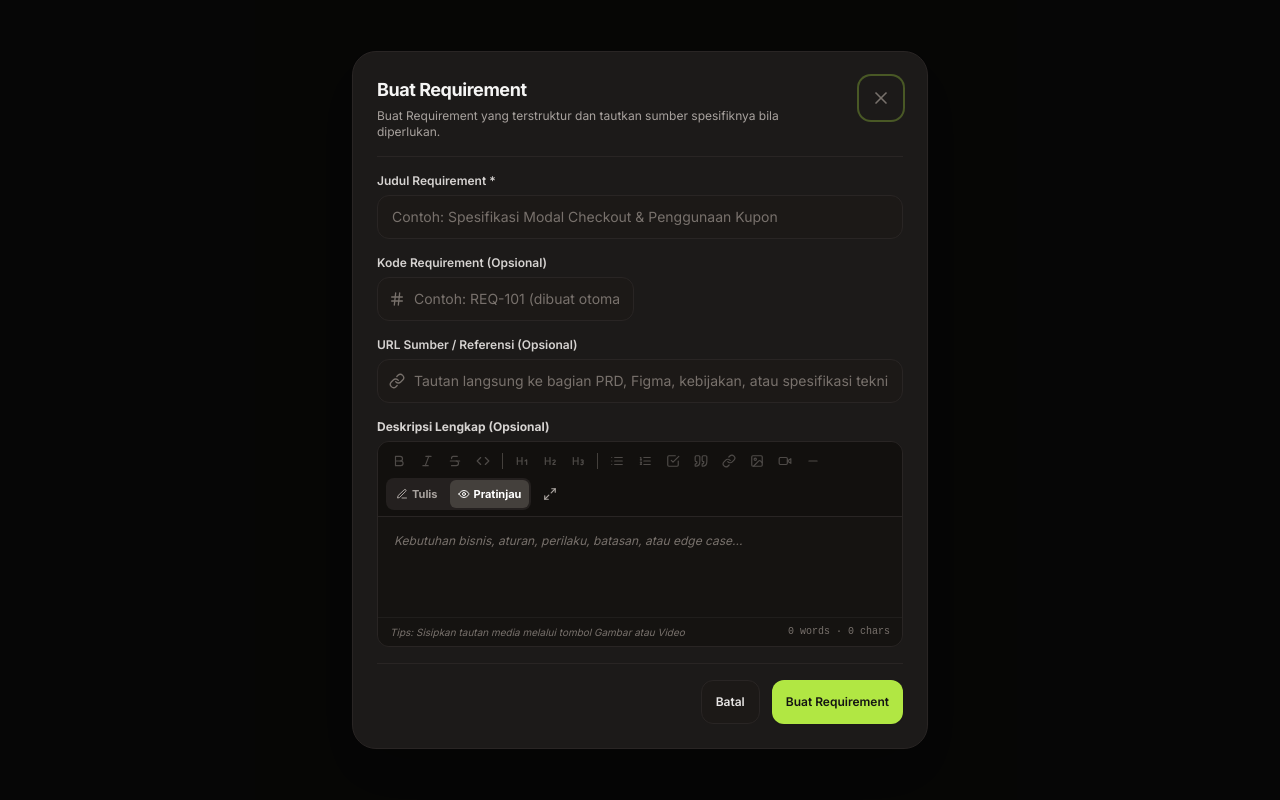
Scenario: RequirementFormModal Molecule › validates URL format and shows error for invalid URL string
This screenshot has width=1280, height=800.
Type "Spec with bad URL" into the field labelled "Judul Requirement *".
click(640, 217); type("Spec with bad URL")  # box [377,195,903,239]
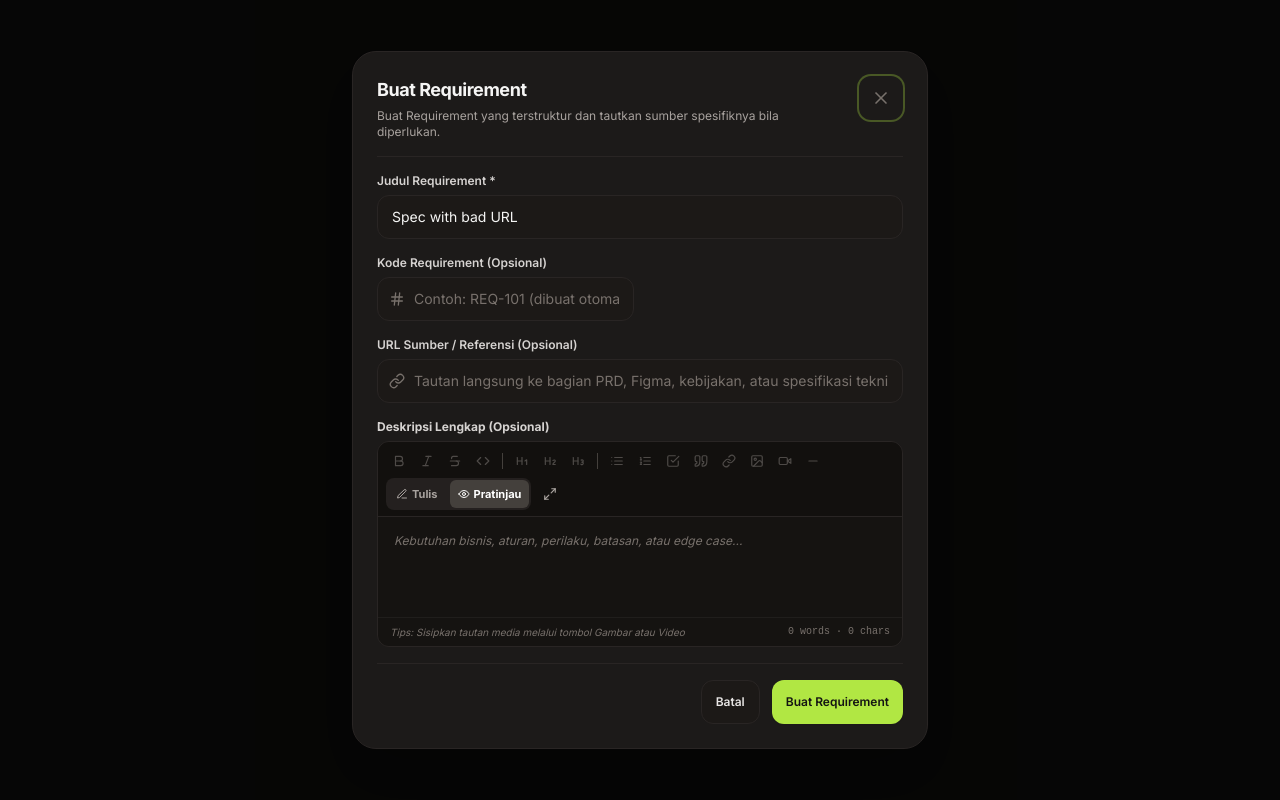
Replace the text in the field labelled "URL Sumber / Referensi (Opsional)" with "not_a_valid_url" at (640, 381), box [377,359,903,403]
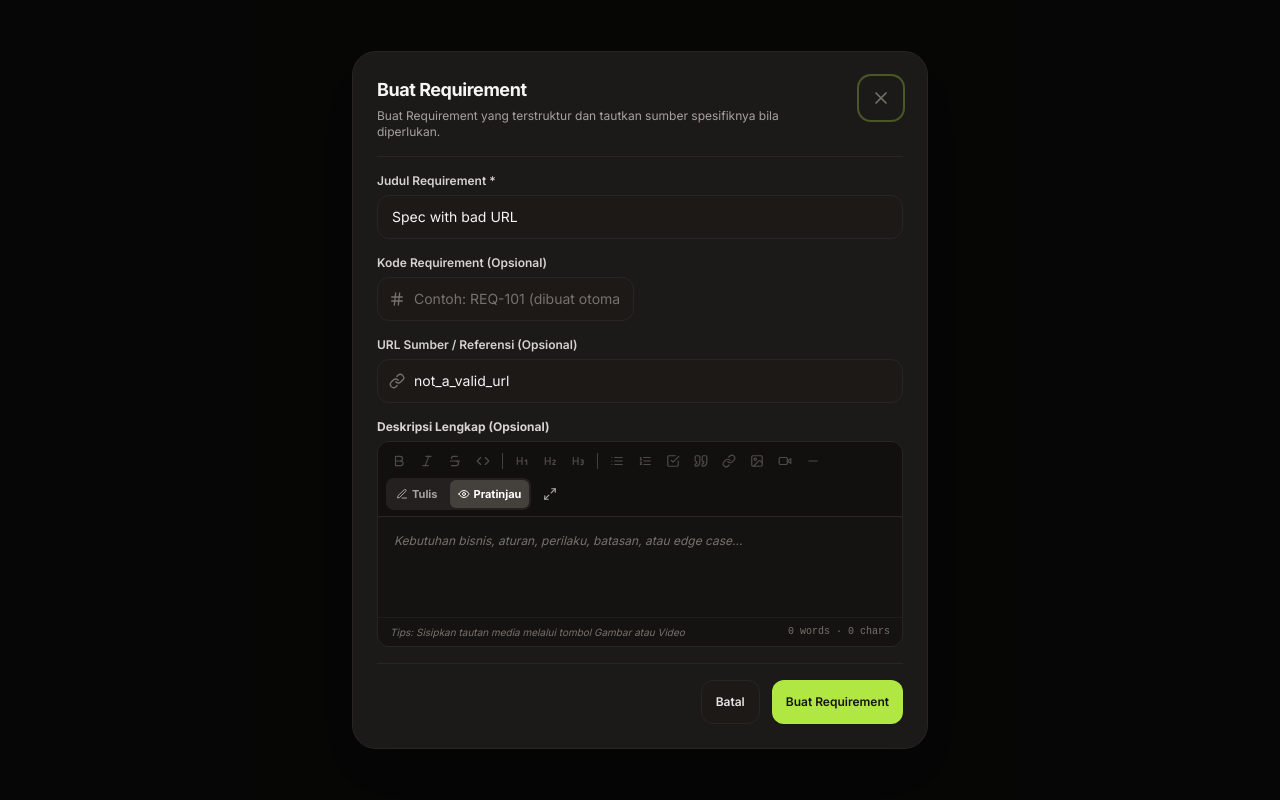
Click the button "Buat Requirement".
click(837, 702)  # box [772,680,903,724]
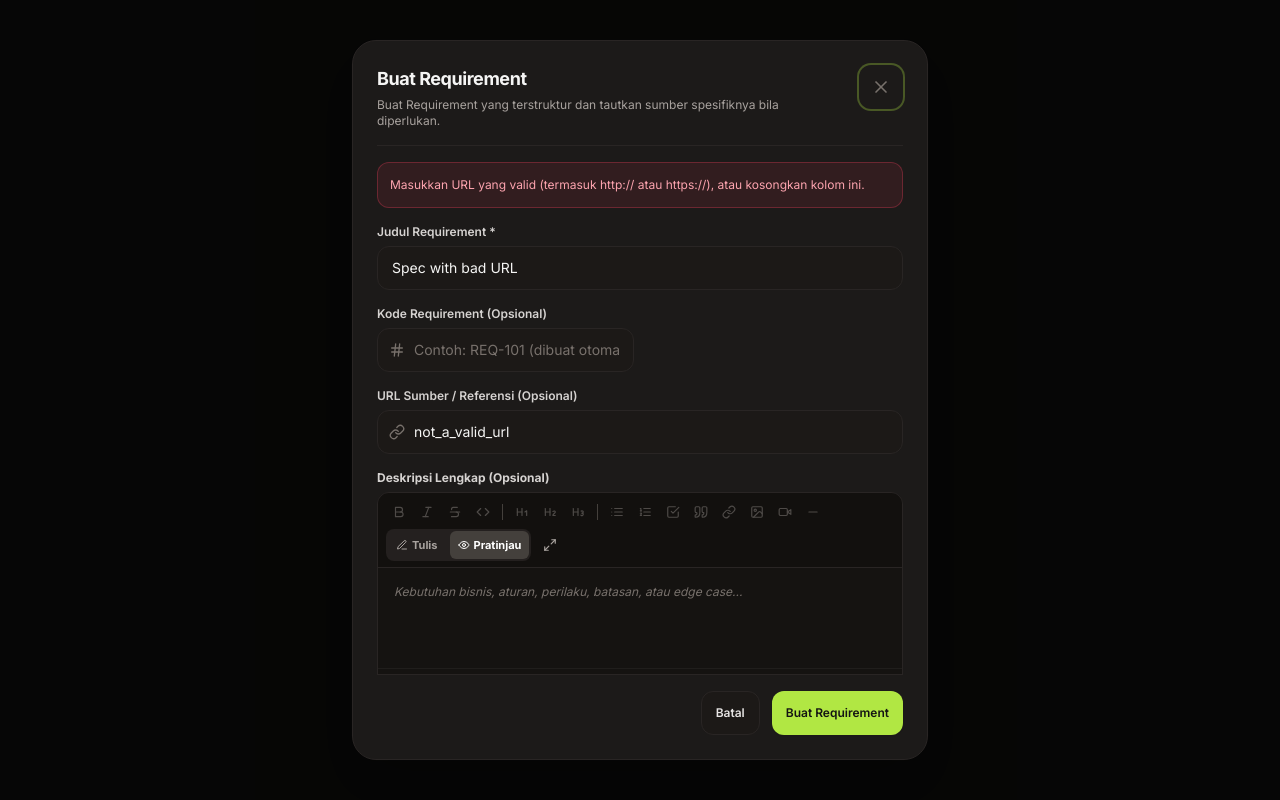
Check: the text "Masukkan URL yang valid" is shown, box [390,177,865,192]
